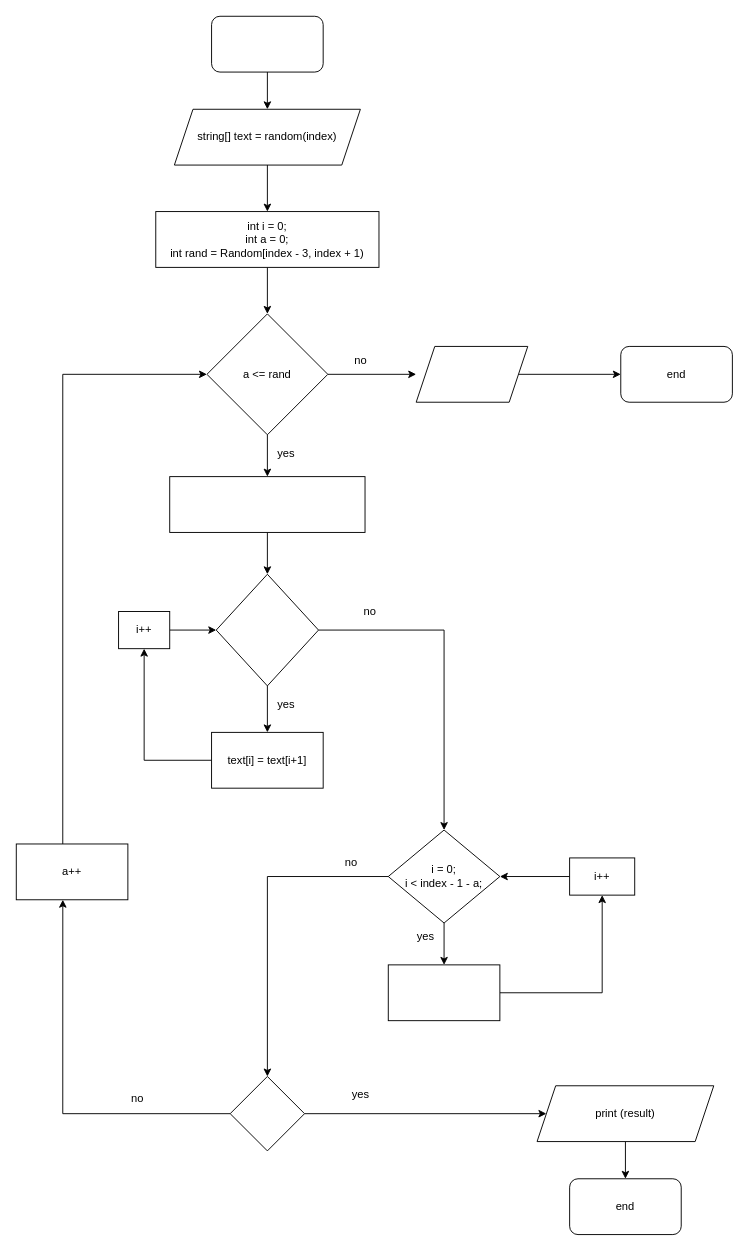
Some shapes in this 749 by 1251 pixel diagram are drawn without their labels. Each missing label, with the box of its shape:
a == rand -1: (229, 1076, 305, 1151)
i = rand; i < index - 1;: (215, 573, 319, 686)
result[i] = text[i]: (387, 964, 500, 1021)
start: (211, 15, 323, 72)
string[] result = text (index - 1 - a) int rand2 = Random[0, index - 1 - a): (169, 476, 365, 532)
Размер массива index >= 3: (415, 345, 528, 402)
